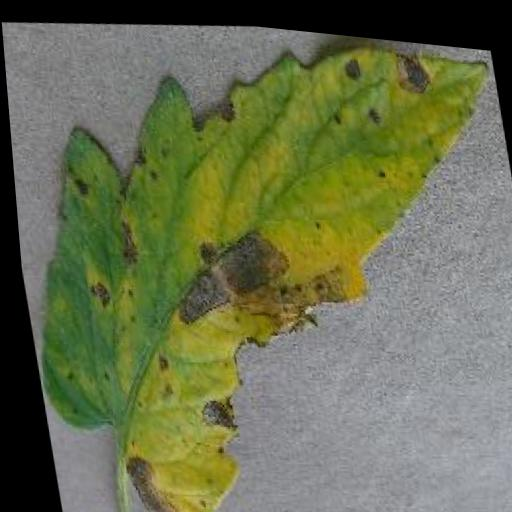Early Blight: (0, 3, 512, 512)
